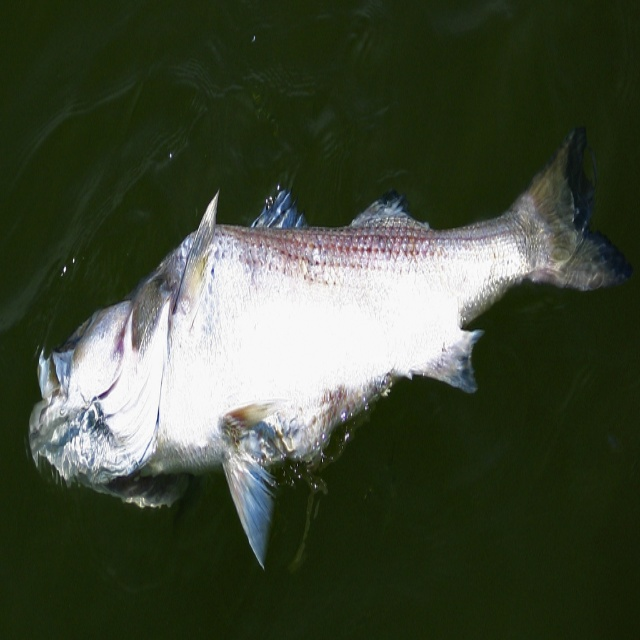Fish: (32, 149, 640, 548)
